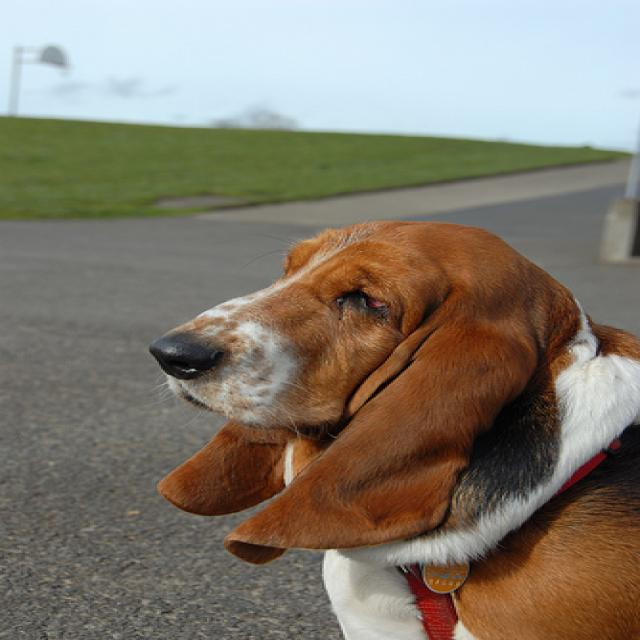dog-basset_hound: (142, 216, 636, 637)
